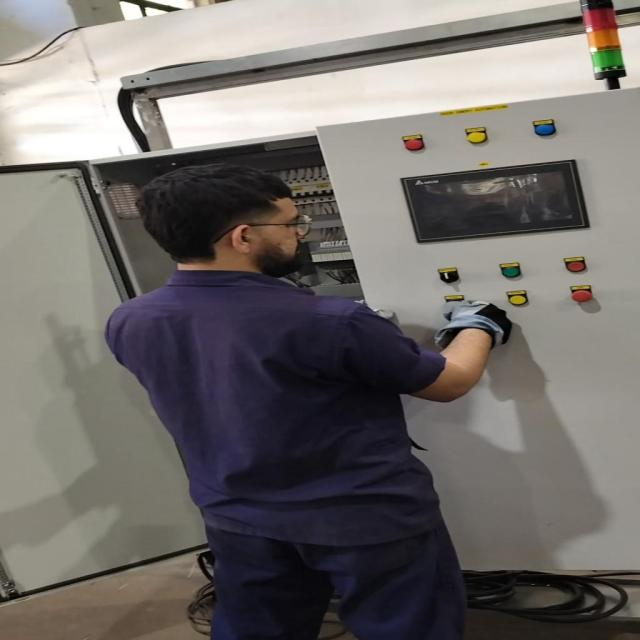Gloves-Detection: (435, 299, 507, 343)
